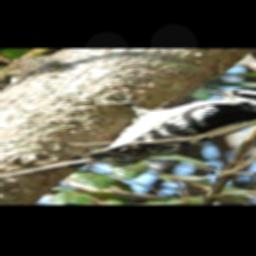Woodpecker: (83, 88, 256, 160)
